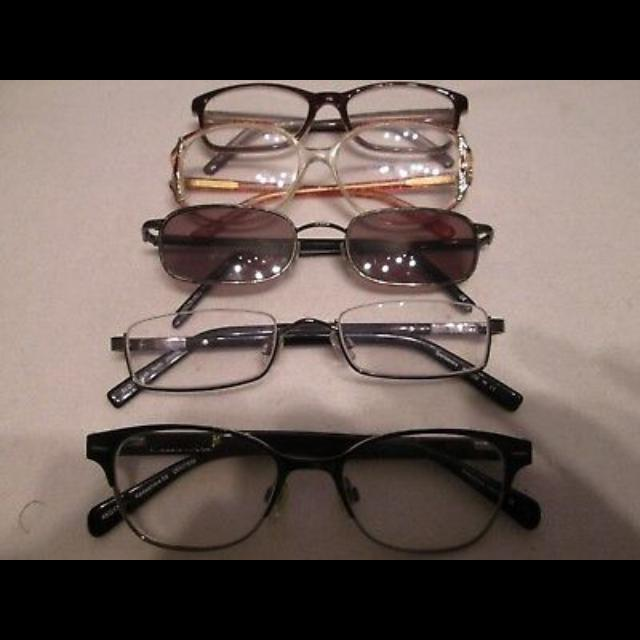glasses: (84, 428, 542, 554), (106, 300, 522, 412), (170, 122, 476, 224), (187, 81, 469, 172)
sunglasses: (143, 204, 493, 316)
